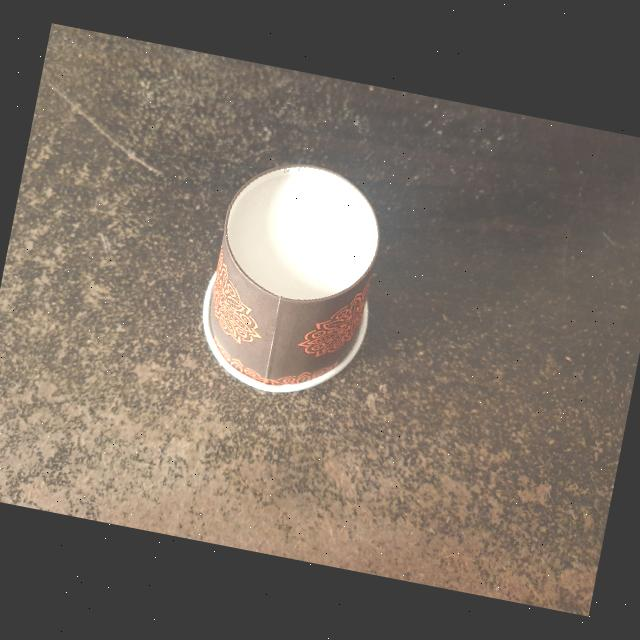trash: (179, 146, 398, 410)
